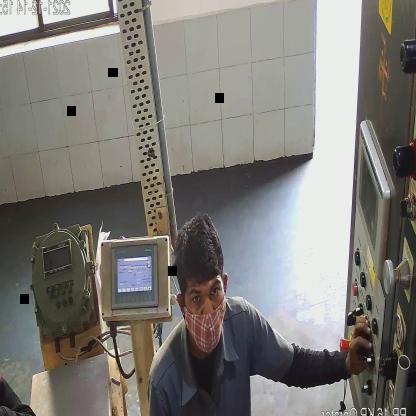no_goggles: (187, 276, 224, 311)
